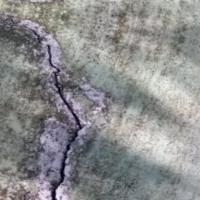crack: (5, 13, 103, 199)
